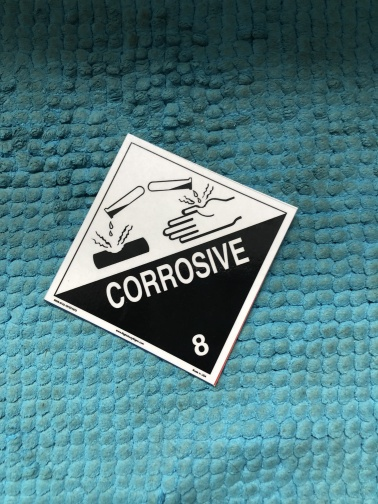Corrosive: (46, 136, 294, 391)
